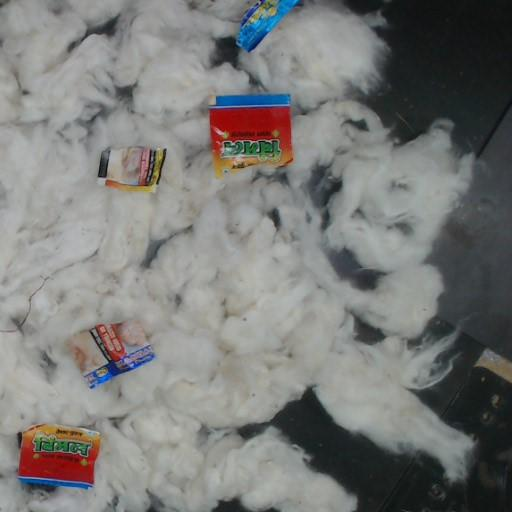conveyor belt: (238, 0, 511, 511), (307, 168, 339, 227), (329, 250, 377, 287), (355, 318, 383, 343), (215, 38, 238, 63), (88, 17, 118, 35), (216, 499, 246, 511), (269, 209, 280, 227)
packet: (210, 94, 292, 176), (67, 322, 154, 388), (19, 424, 100, 488), (237, 0, 299, 51), (98, 146, 166, 191)
